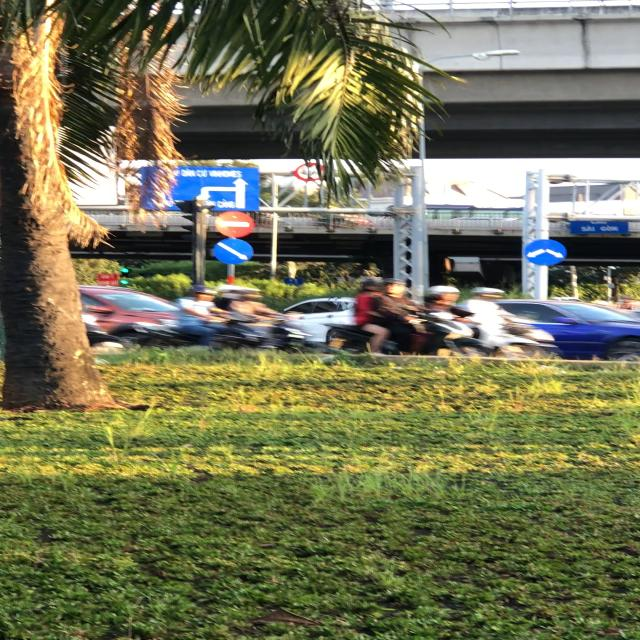Bien bao cam di nguoc chieu: (212, 209, 258, 239)
Bien bao huong phai di vong chuong ngai vat: (522, 235, 573, 268), (211, 237, 254, 268)
